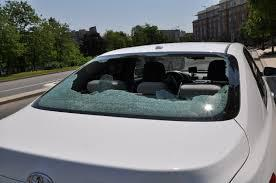Rear-windscreen-Damage: (28, 46, 258, 134)
